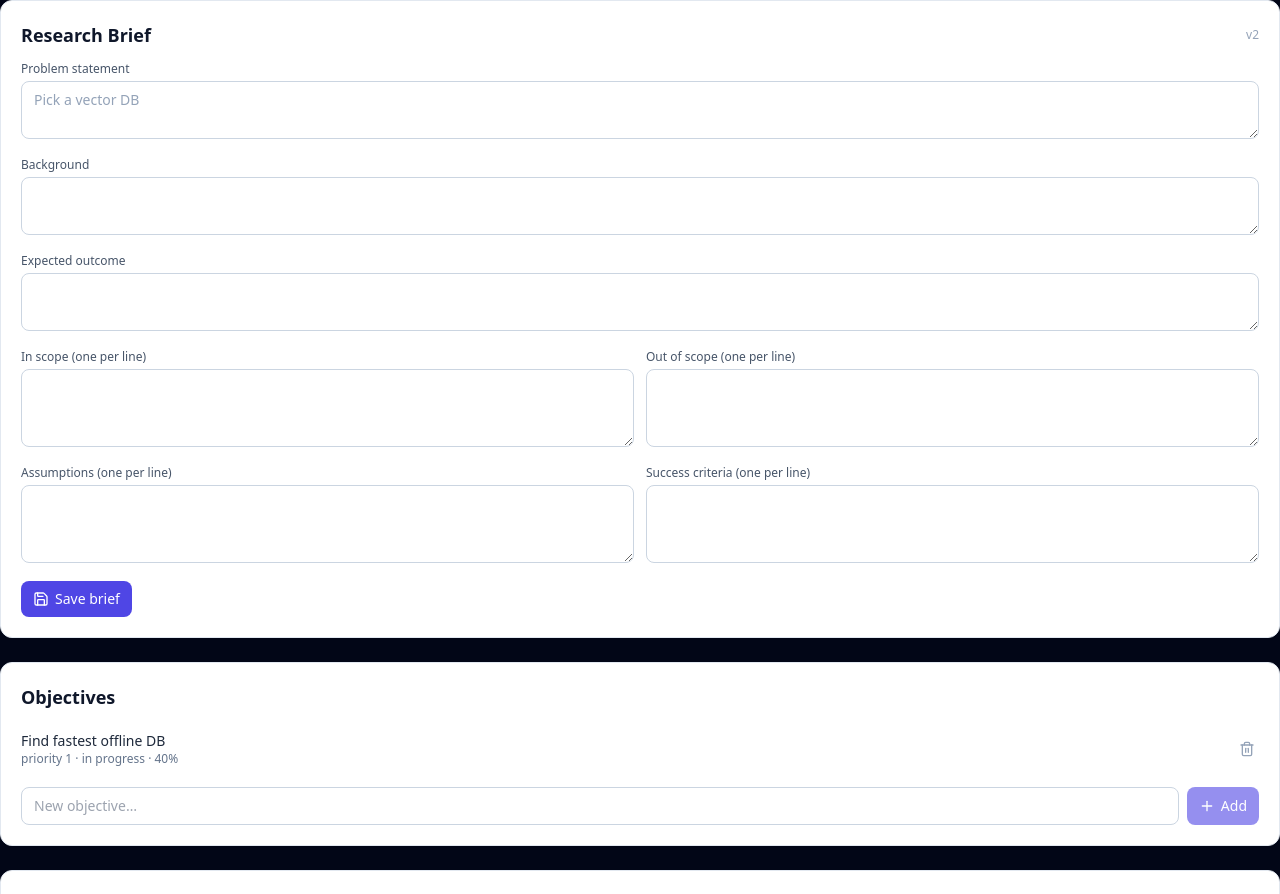
Test: BriefPanel › saves the brief with the edited problem statement
The width and height of the screenshot is (1280, 894).
Type "!" into the text box showing "Pick a vector DB" at (640, 110), box [21,81,1259,139]
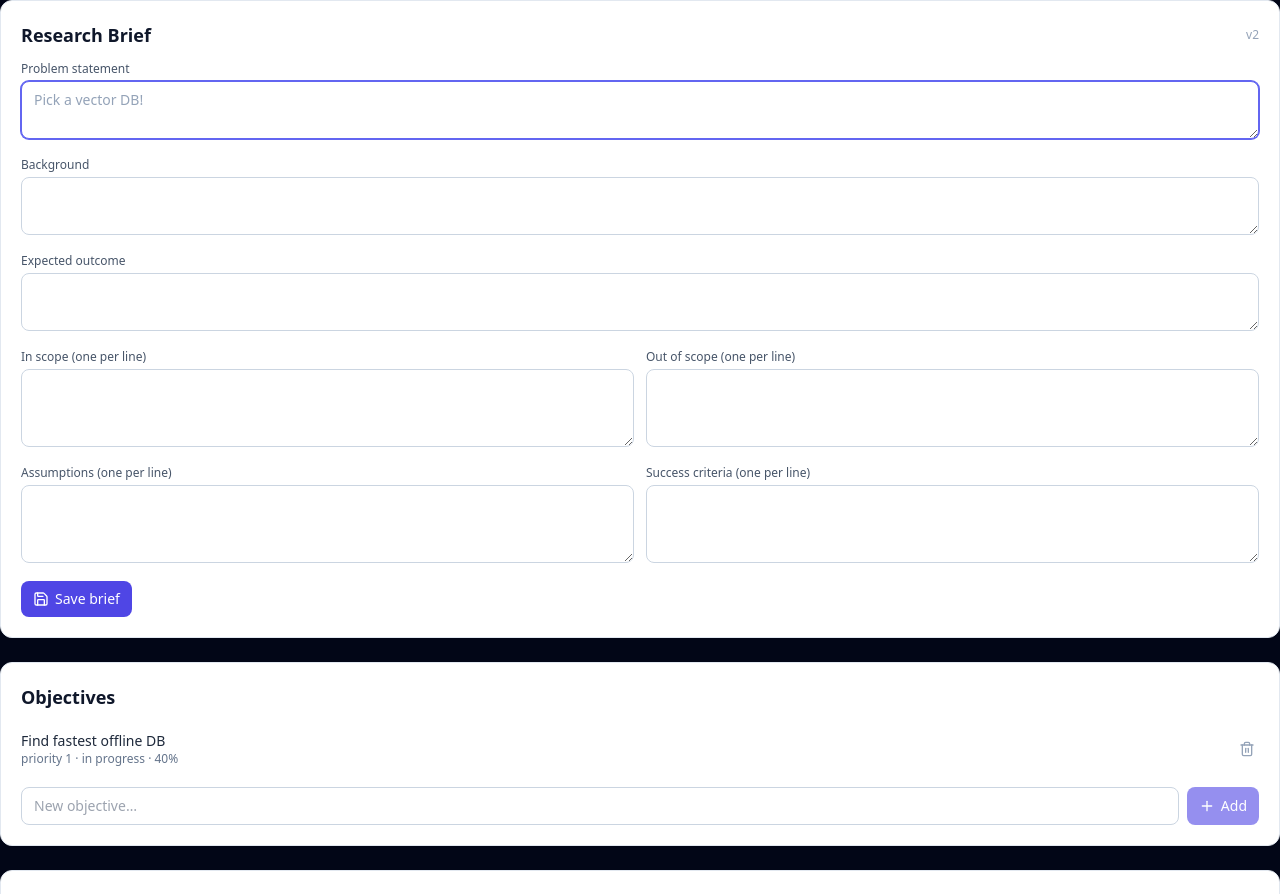
Click the button "Save brief" at (76, 599), box [21,581,132,617]
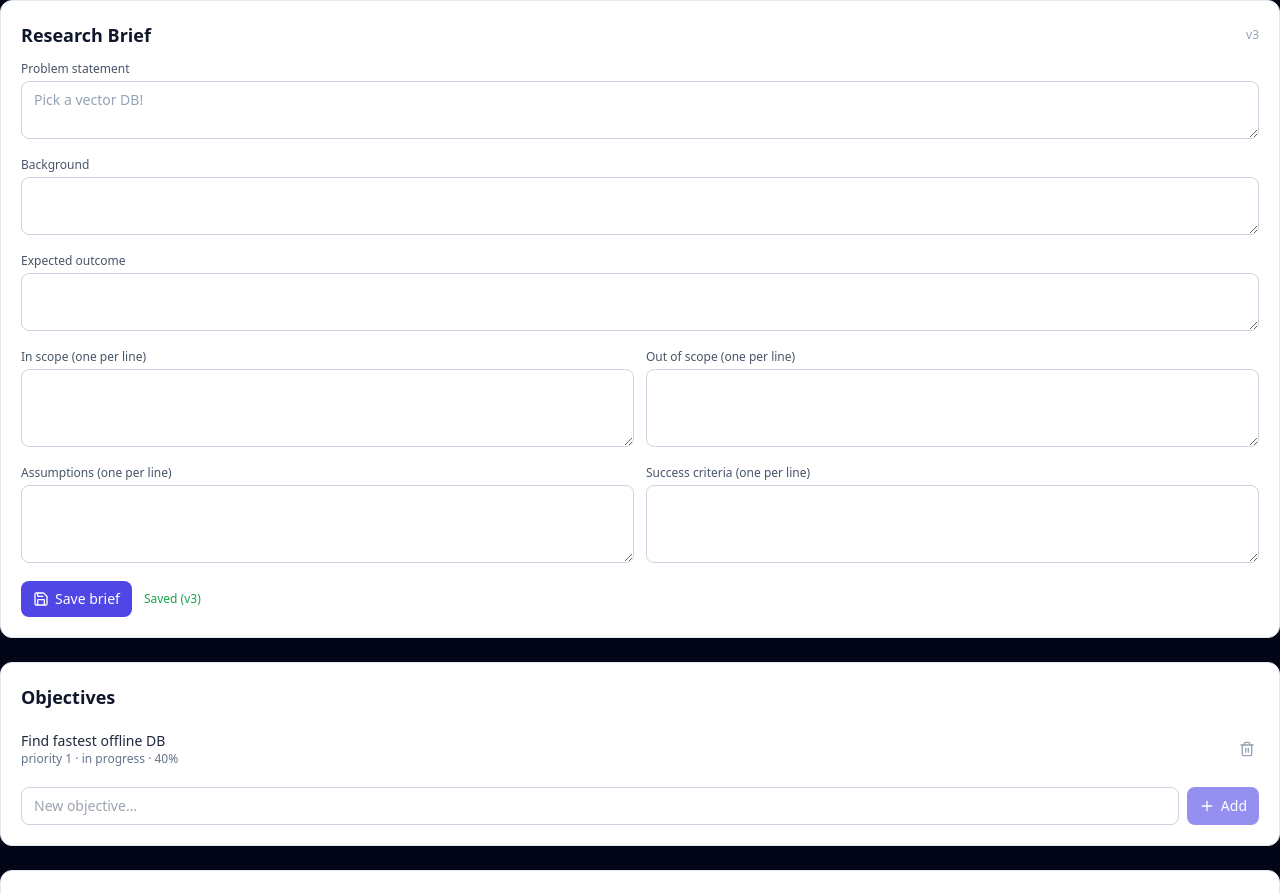
expect the text "Saved (v3)" is shown: met, box [144,591,201,607]
